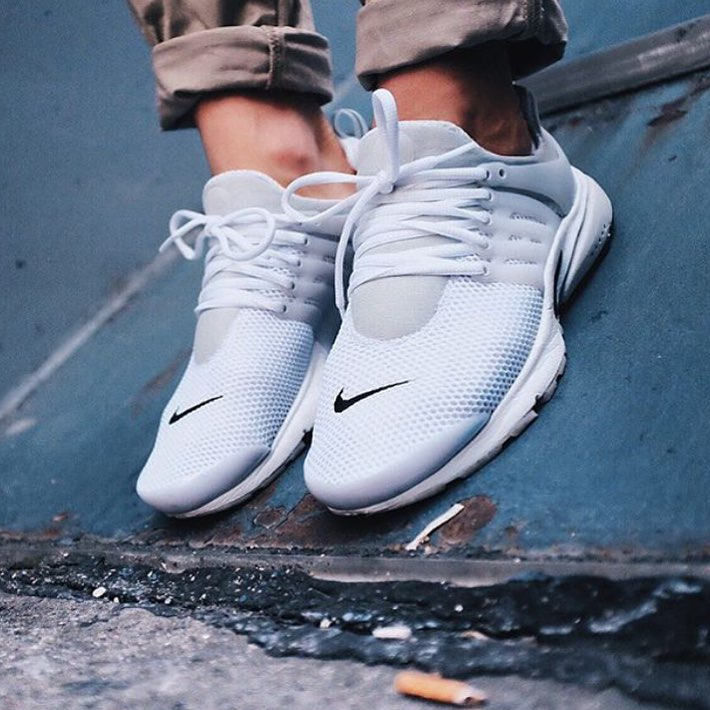sneaker: (287, 20, 626, 546), (127, 70, 396, 543)
